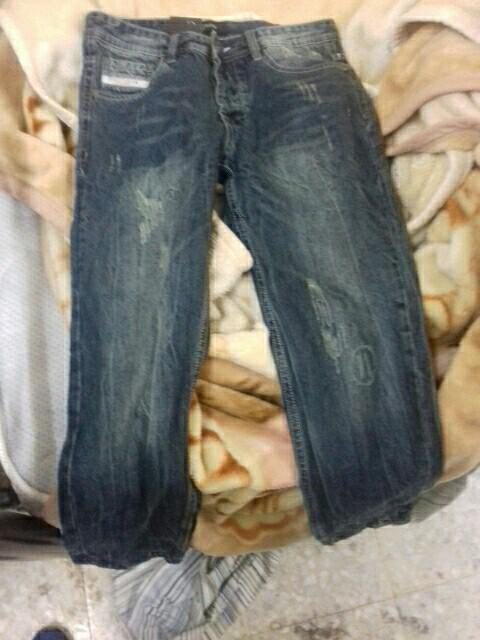jeans: (41, 21, 436, 535)
